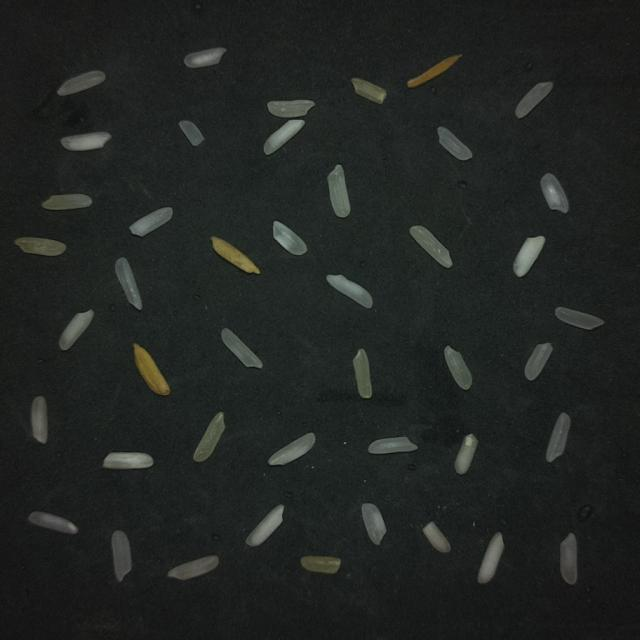broken: (129, 207, 173, 236), (437, 127, 472, 161), (273, 221, 307, 255), (540, 174, 569, 213), (525, 343, 553, 380), (362, 504, 386, 544), (455, 434, 478, 474), (184, 47, 226, 68), (423, 522, 451, 553), (267, 100, 314, 118), (368, 437, 417, 454), (179, 120, 204, 146)
chalky: (246, 504, 284, 547), (59, 310, 94, 350), (264, 120, 304, 154), (478, 532, 504, 583), (514, 236, 544, 277), (61, 132, 111, 151), (103, 452, 153, 469)
discolored: (194, 412, 225, 462), (14, 237, 66, 256), (353, 349, 372, 398), (351, 78, 386, 104), (301, 556, 341, 574)
paddy: (134, 344, 169, 395), (407, 55, 461, 88), (211, 237, 259, 274)
whole: (410, 226, 452, 268), (221, 328, 263, 368), (327, 275, 373, 308), (269, 432, 315, 465), (115, 258, 142, 309), (515, 82, 553, 118), (57, 70, 105, 96), (167, 555, 219, 579), (445, 345, 472, 389), (546, 413, 570, 462), (328, 165, 350, 218), (555, 307, 604, 329), (29, 512, 78, 534), (112, 530, 131, 581), (560, 533, 577, 584), (42, 194, 92, 210), (31, 396, 48, 443)
